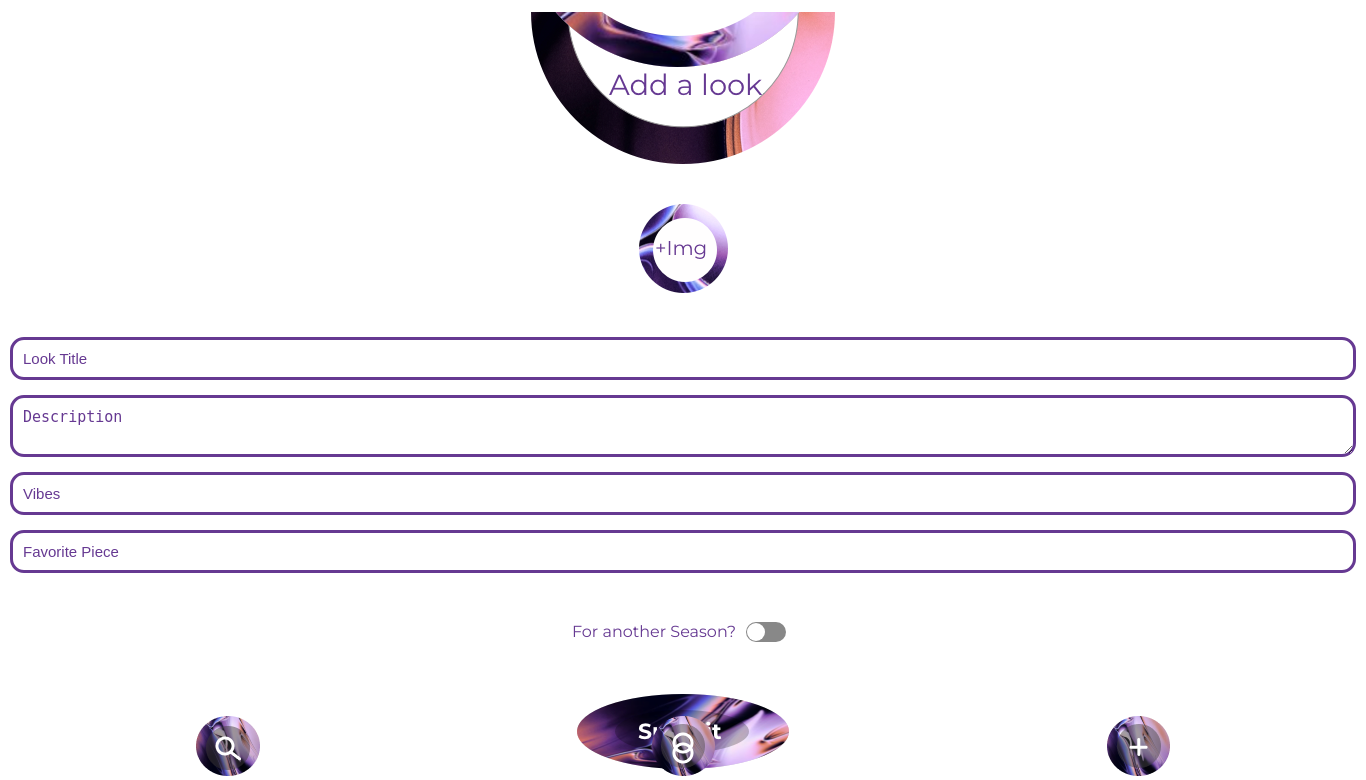
Test: Vibe › Add look › shows error for invalid input
Click the picture with test id "pressed-submit". click: [683, 737]
box: [577,694,789,779]
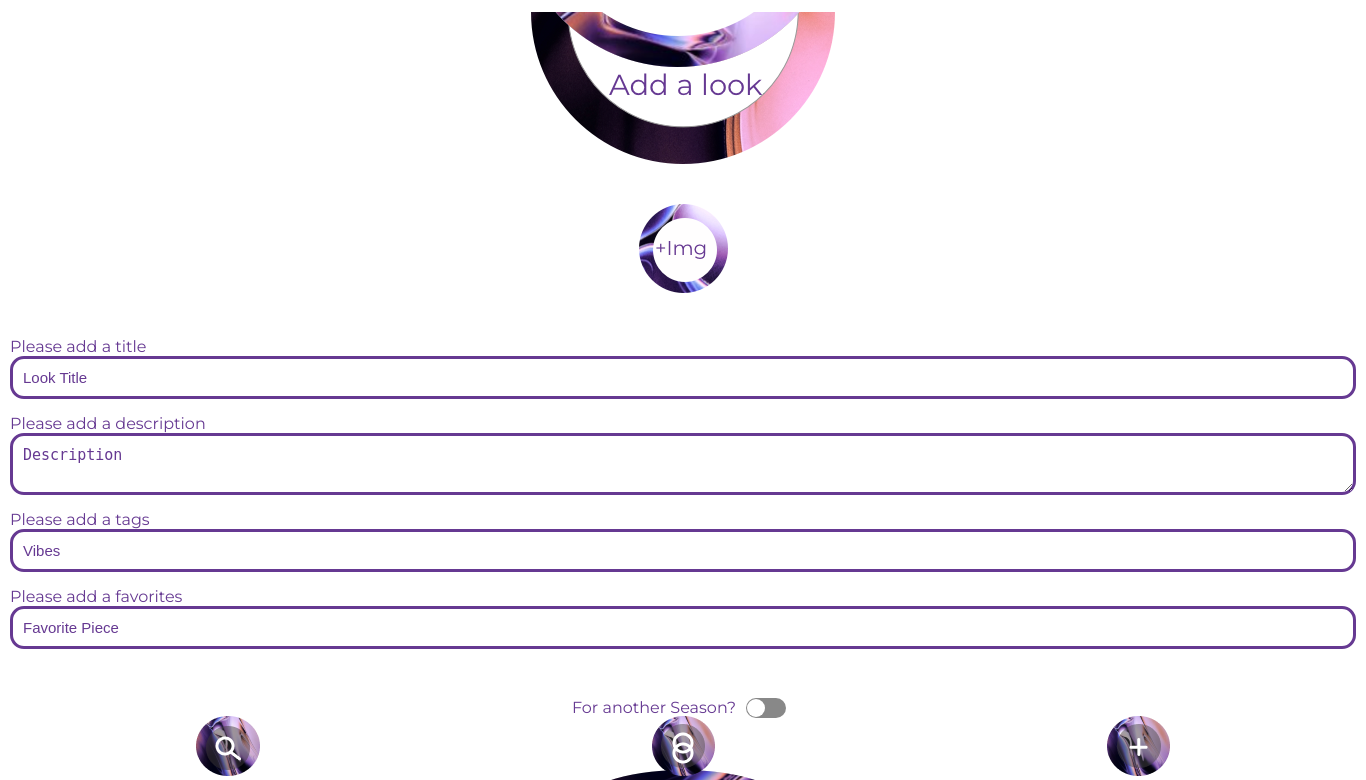
Expected: the number of elements with test id "form [data-cy=\"error\"]" is 1, [10,337,146,356]
Expected: the text with test id "form [data-cy=\"error\"]" reads "Please add a title", [10,337,146,356]
